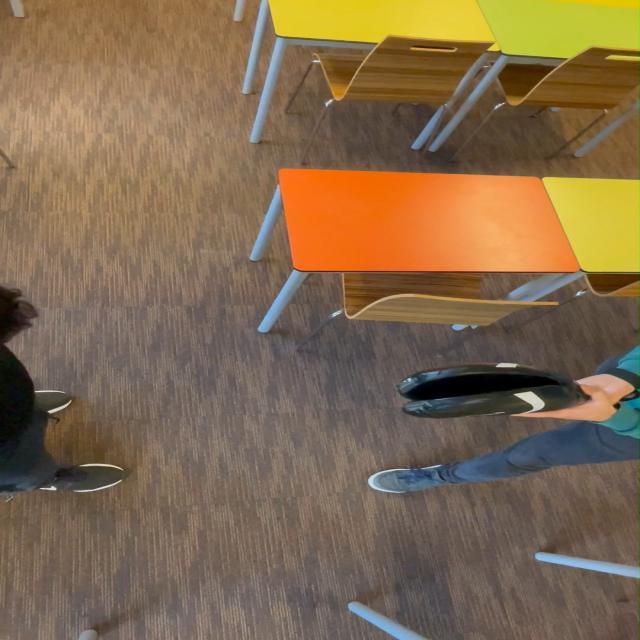paddle: (401, 369, 579, 414)
